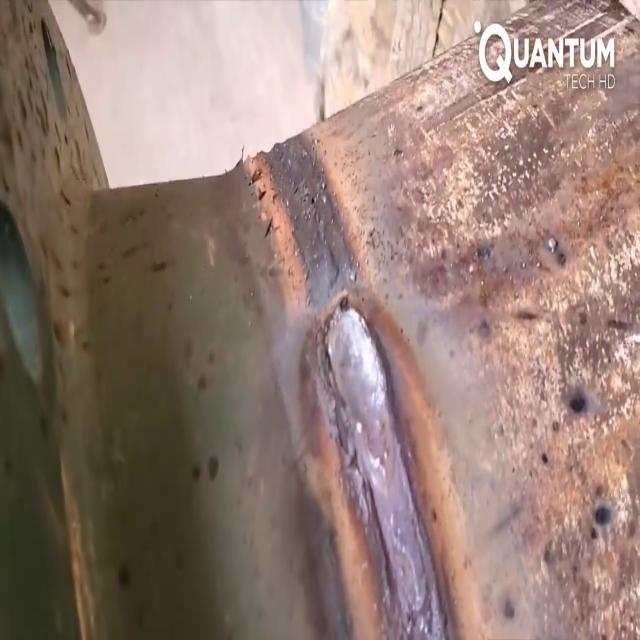Good Weld: (318, 310, 438, 590)
